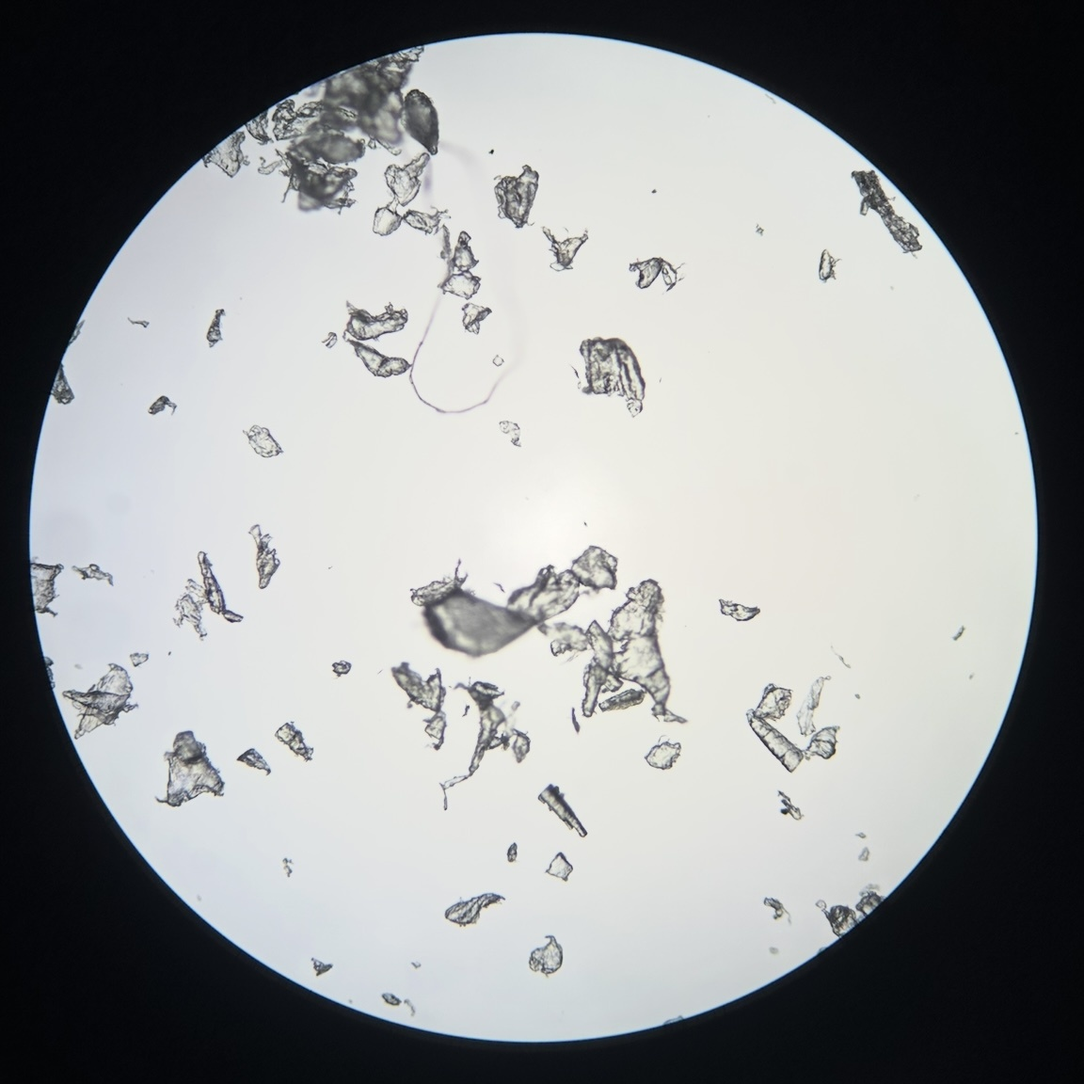microplastic: (275, 45, 423, 215), (409, 546, 618, 657), (539, 580, 689, 724), (746, 683, 840, 773), (172, 551, 244, 642), (374, 153, 451, 237), (852, 170, 922, 258), (62, 664, 138, 739), (578, 338, 646, 417), (343, 301, 412, 377), (156, 731, 225, 806), (391, 662, 446, 750), (438, 231, 491, 299), (494, 166, 539, 228), (538, 785, 588, 837), (402, 88, 439, 155), (200, 133, 250, 178), (797, 676, 832, 737), (542, 226, 588, 271), (248, 525, 280, 589), (445, 893, 505, 927), (28, 559, 62, 617), (630, 258, 685, 291), (816, 900, 856, 938), (275, 722, 313, 761), (529, 935, 563, 978), (44, 363, 76, 407), (243, 425, 284, 458), (245, 108, 273, 146), (235, 747, 271, 775), (645, 741, 681, 769), (855, 884, 885, 917), (462, 303, 492, 334), (719, 599, 760, 621), (73, 564, 116, 584), (60, 320, 85, 354), (545, 851, 572, 882), (777, 790, 803, 821), (819, 249, 842, 282), (206, 310, 226, 347), (764, 898, 791, 925), (149, 396, 177, 416), (500, 421, 521, 447), (43, 654, 56, 693), (830, 646, 850, 668), (311, 958, 333, 976), (332, 661, 352, 678), (661, 1016, 683, 1027), (322, 332, 337, 348), (382, 994, 402, 1006), (130, 653, 148, 666), (571, 708, 580, 734), (128, 317, 150, 327), (507, 843, 518, 863), (282, 858, 293, 877), (404, 999, 416, 1016), (952, 626, 964, 641), (859, 848, 869, 861), (756, 225, 764, 237), (411, 962, 421, 969), (769, 948, 779, 955), (855, 833, 867, 838), (968, 673, 975, 679), (854, 693, 861, 699)
